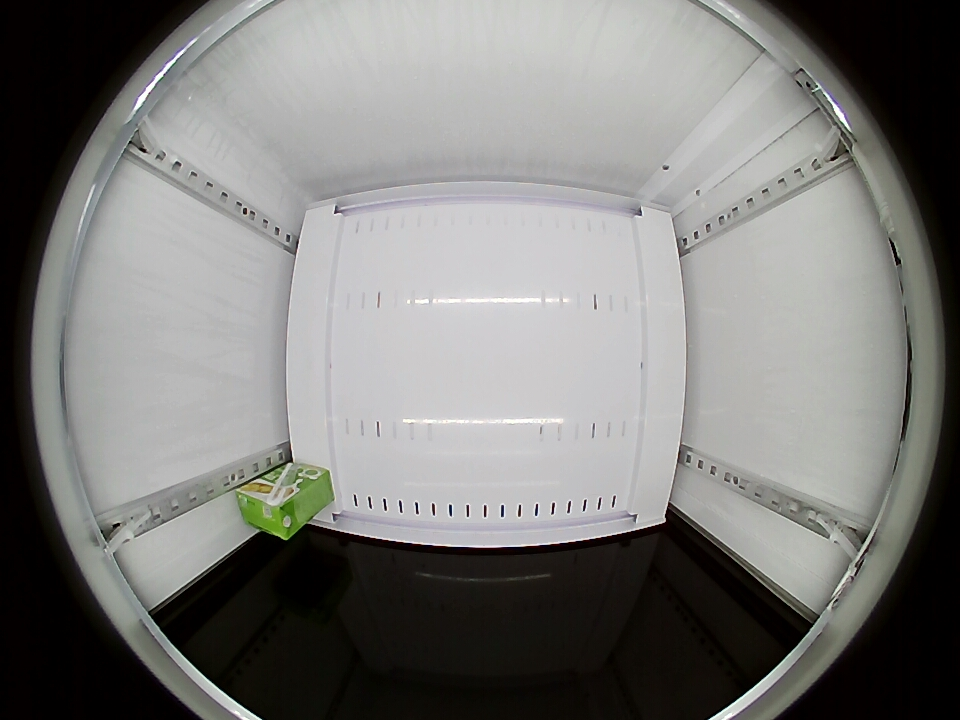mengniuzaocan: (237, 481, 302, 539)
